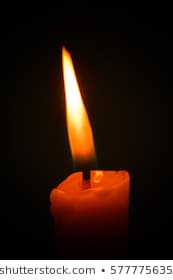Fire: (56, 45, 100, 168)
